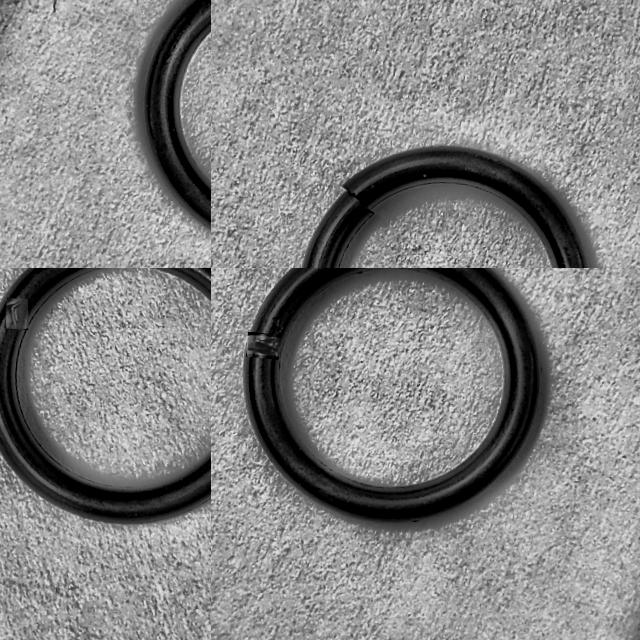侧边压痕: (409, 518, 420, 522)
切割缺陷: (5, 298, 27, 329), (246, 335, 278, 356)
挤压缺陷: (330, 177, 384, 221)
裂纹: (353, 270, 362, 275)
